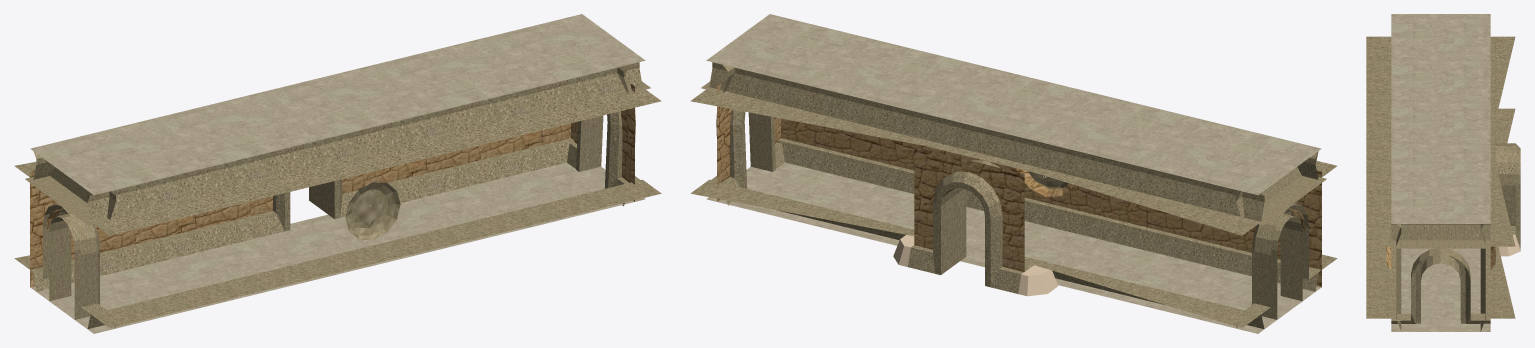
The model's file is LibraryCorridor.glb.
The picture shows the model from 3 angles, left to right: view 1: azimuth 30°, elevation 25°; view 2: azimuth 150°, elevation 25°; view 3: azimuth 270°, elevation 25°; orthographic projection. The views are drawn at different scales.
Parts seen in each view (by area): view 1: object1.019, object1.006, col, object1.005, object2.002, object1.012, object1.008, object2.003, object1.001, object2.001, object1.014, object1.018 (+6 smaller); view 2: object1.019, col, object1.024, object1.005, object1.028, object2.001, door, object2.002, object1.003, object1.004, object1.012, object1.008 (+6 smaller); view 3: object1.019, object1.006, col, object1.005, object1.020, object2.003, object1.008, object2.001, object1.024, object1.028, object1.012, object1.007 (+1 smaller).
Boxes of the visible parts, bbox=[...] form: object1.019: bbox=[30, 14, 645, 195]; object1.006: bbox=[87, 62, 661, 235]; col: bbox=[30, 162, 645, 333]; object1.005: bbox=[87, 179, 661, 328]; object2.002: bbox=[30, 203, 115, 328]; object1.012: bbox=[14, 216, 257, 291]; object1.008: bbox=[387, 138, 574, 202]; object2.003: bbox=[567, 109, 640, 206]; object1.001: bbox=[345, 182, 400, 239]; object2.001: bbox=[251, 179, 358, 237]; object1.014: bbox=[30, 170, 140, 287]; object1.018: bbox=[25, 167, 115, 225]; object1.019: bbox=[706, 14, 1321, 195]; col: bbox=[706, 162, 1321, 333]; object1.024: bbox=[924, 116, 1264, 235]; object1.005: bbox=[777, 138, 1337, 291]; object1.028: bbox=[690, 62, 933, 145]; object2.001: bbox=[908, 160, 1039, 293]; door: bbox=[914, 147, 1024, 271]; object2.002: bbox=[1236, 203, 1321, 328]; object1.003: bbox=[1101, 170, 1321, 287]; object1.004: bbox=[781, 118, 990, 170]; object1.012: bbox=[1034, 260, 1264, 328]; object1.008: bbox=[690, 179, 914, 240]; object1.019: bbox=[1391, 14, 1490, 223]; object1.006: bbox=[1366, 36, 1401, 246]; col: bbox=[1391, 248, 1490, 331]; object1.005: bbox=[1366, 246, 1401, 331]; object1.020: bbox=[1391, 224, 1490, 248]; object2.003: bbox=[1391, 248, 1490, 323]; object1.008: bbox=[1480, 246, 1515, 331]; object2.001: bbox=[1495, 143, 1520, 247]; object1.024: bbox=[1490, 36, 1515, 162]; object1.028: bbox=[1480, 162, 1515, 246]; object1.012: bbox=[1495, 108, 1515, 143]; object1.007: bbox=[1498, 234, 1520, 256].
Bounding box in the file's own units: 5.1 × 1.22 × 1.55.
13 materials, 10 textured.
